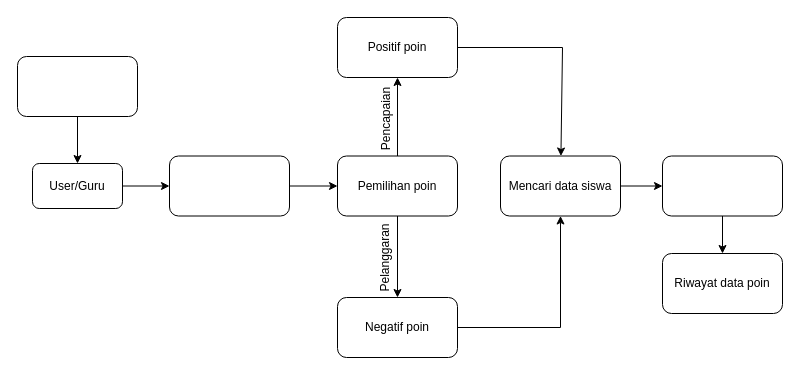
Some shapes in this 800 by 375 pixel diagram are drawn without their labels. The shapes that lost their labels are listed below. From the top down, each one's centre as x and y in pixels, then its label:
point (77, 86): Murid mendapatkan poin
point (229, 185): Daftar/Login
point (722, 185): Mengisi poin
